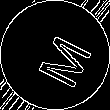M_NW: (22, 23, 88, 87)
